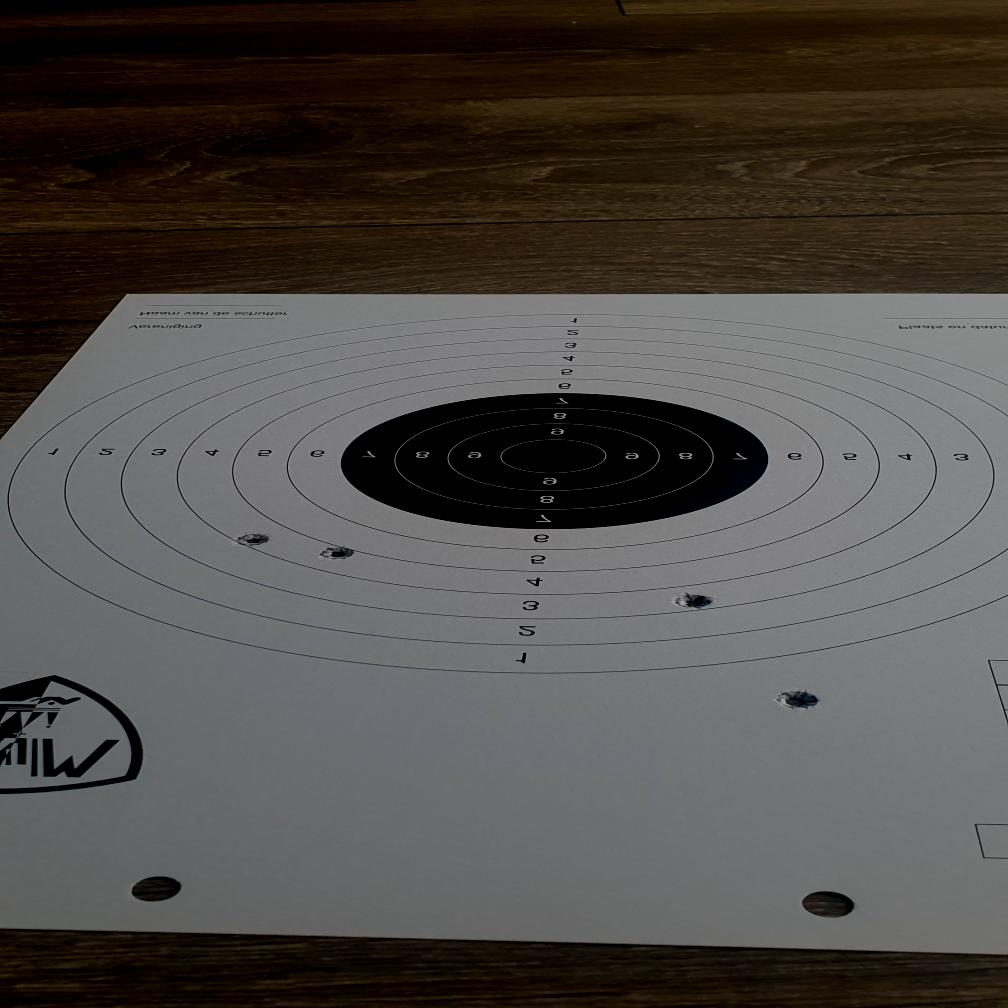0: (772, 690, 820, 710)
3: (670, 592, 718, 612)
4: (232, 532, 272, 548)
5: (316, 545, 356, 562)
Target: (4, 310, 1008, 676)
black_contour: (339, 393, 767, 530)
